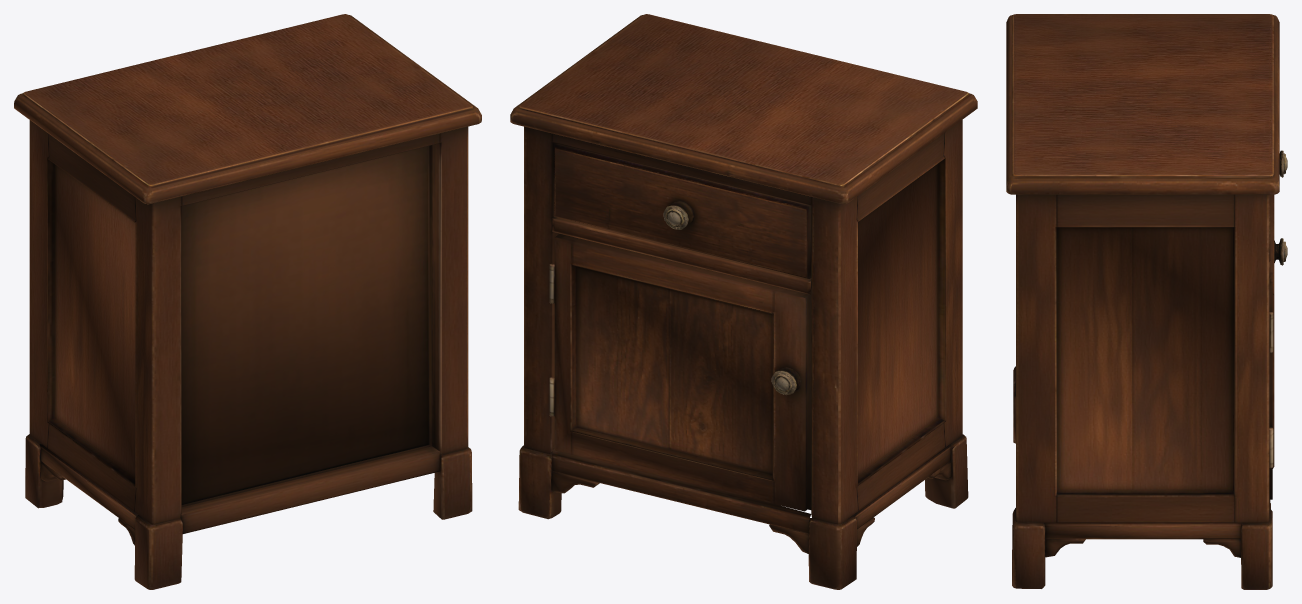
File: furniture-nightstand.glb
3 views of the same model, side by side, from view 1: azimuth 30°, elevation 25°; view 2: azimuth 150°, elevation 25°; view 3: azimuth 270°, elevation 25° (orthographic). The views are drawn at different scales.
Parts seen in each view (by area): view 1: tripo_node_d89b6185-3250-4c40-b42b-58732be9ad6e; view 2: tripo_node_d89b6185-3250-4c40-b42b-58732be9ad6e; view 3: tripo_node_d89b6185-3250-4c40-b42b-58732be9ad6e.
Part boxes in pixels (x1,y1,x2,y2): tripo_node_d89b6185-3250-4c40-b42b-58732be9ad6e: (14, 14, 481, 589); tripo_node_d89b6185-3250-4c40-b42b-58732be9ad6e: (510, 14, 977, 589); tripo_node_d89b6185-3250-4c40-b42b-58732be9ad6e: (1006, 14, 1287, 589).
Bounding box in the file's own units: 0.68 × 0.78 × 0.48.
Materials: 1 (1 with a texture image).
